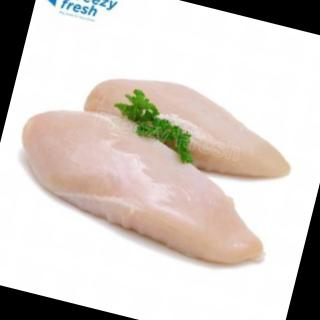Ayam: (4, 100, 287, 275), (81, 66, 305, 187)
